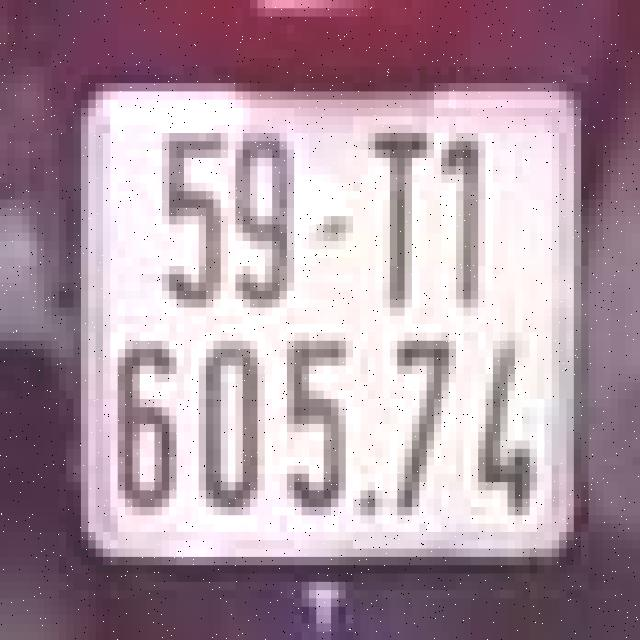0: (191, 328, 265, 520)
1: (434, 129, 500, 320)
4: (464, 328, 544, 520)
5: (147, 108, 228, 324), (272, 324, 353, 532)
6: (106, 337, 188, 528)
7: (390, 328, 456, 520)
9: (228, 104, 302, 312)
T: (357, 112, 438, 320)
